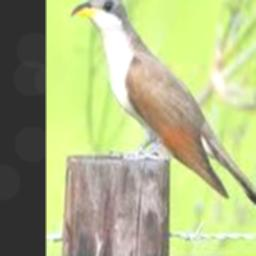Cuckoo: (72, 0, 256, 234)
